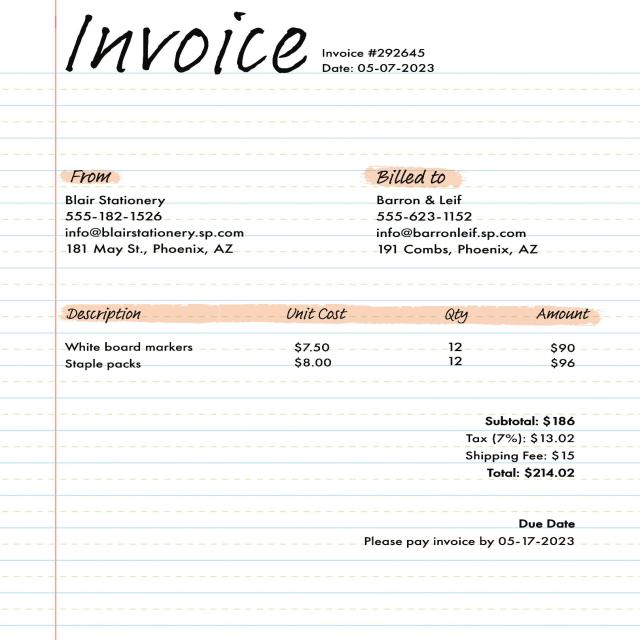paragraph: (53, 156, 291, 265), (344, 165, 558, 265), (50, 4, 314, 83), (451, 410, 592, 490), (356, 509, 590, 552), (318, 42, 446, 77)
table: (53, 289, 606, 387)
